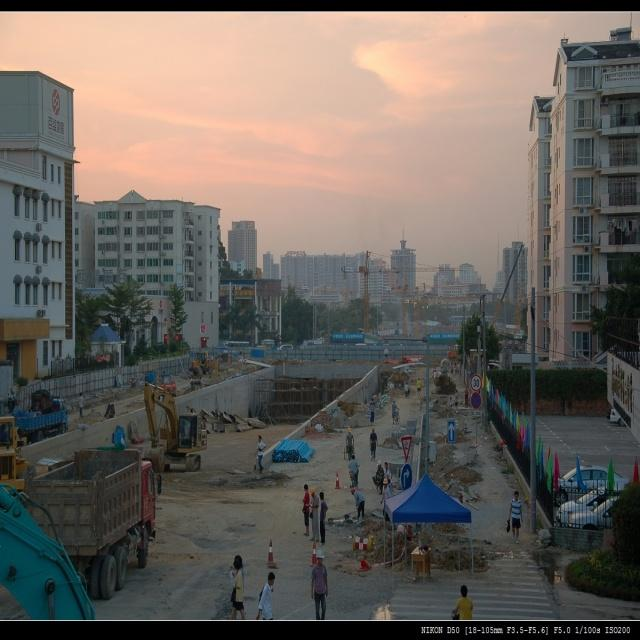helmet: (377, 612, 382, 623), (257, 579, 262, 589), (384, 615, 388, 625), (351, 605, 355, 615), (371, 569, 375, 579), (347, 570, 351, 578), (383, 637, 388, 640)
